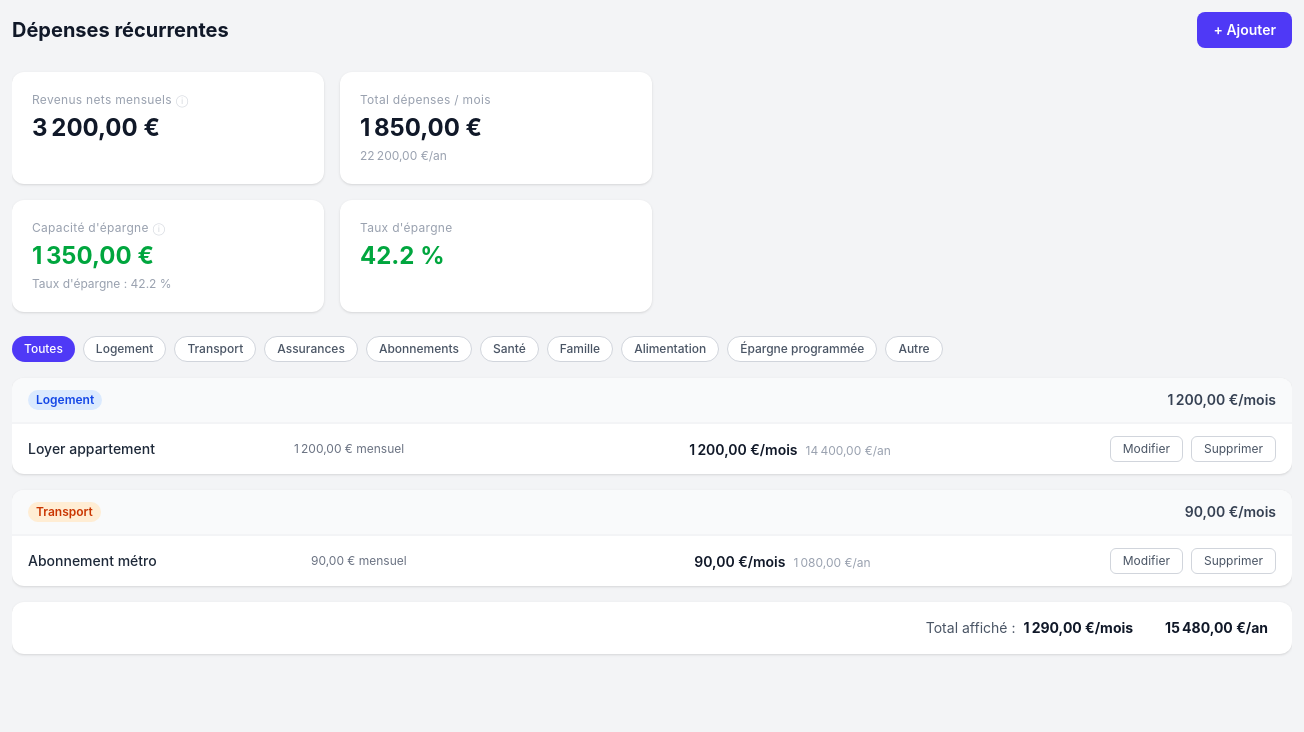
Test: RecurringExpensePage — pattern CRUD avec budgets › affiche toutes les dépenses au clic sur "Toutes"
Expected: the text "Loyer appartement" is shown, [12,424,278,474]
Click the button "Transport": (215, 349) [174,336,256,362]
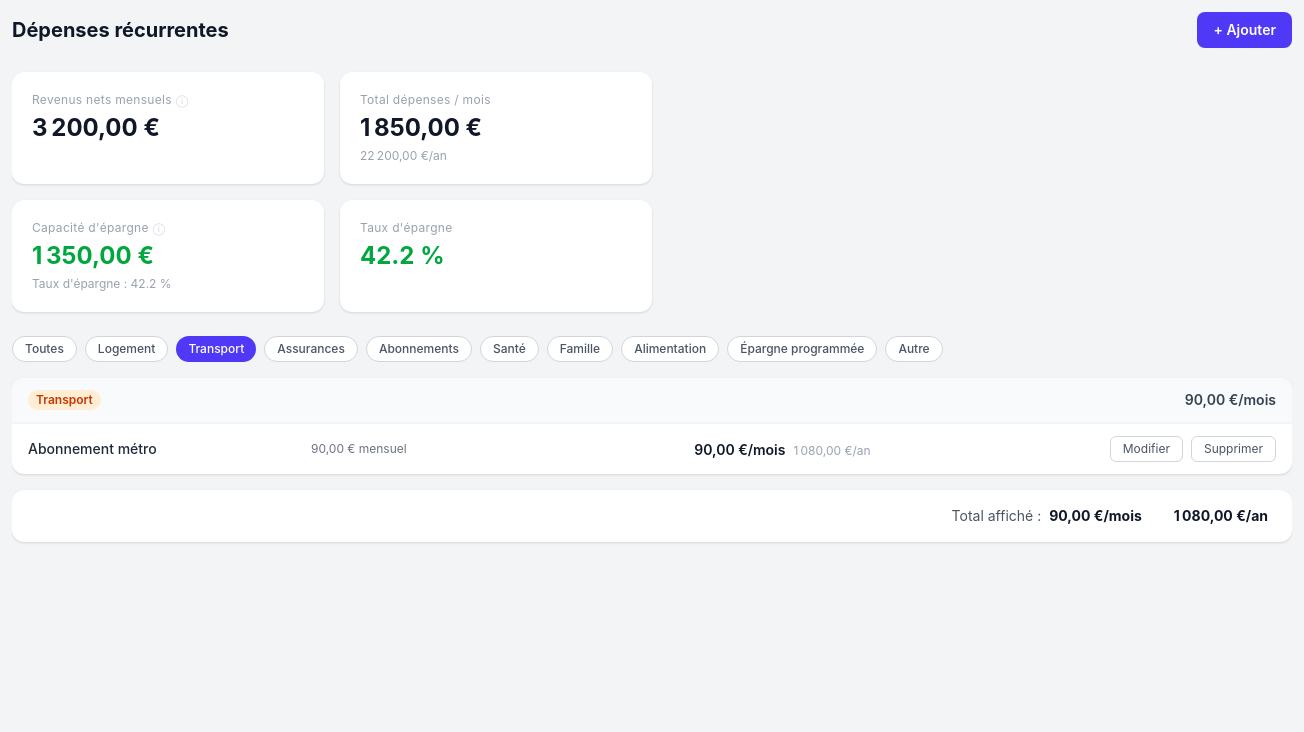
Click the button "Toutes": (44, 349) [12,336,77,362]
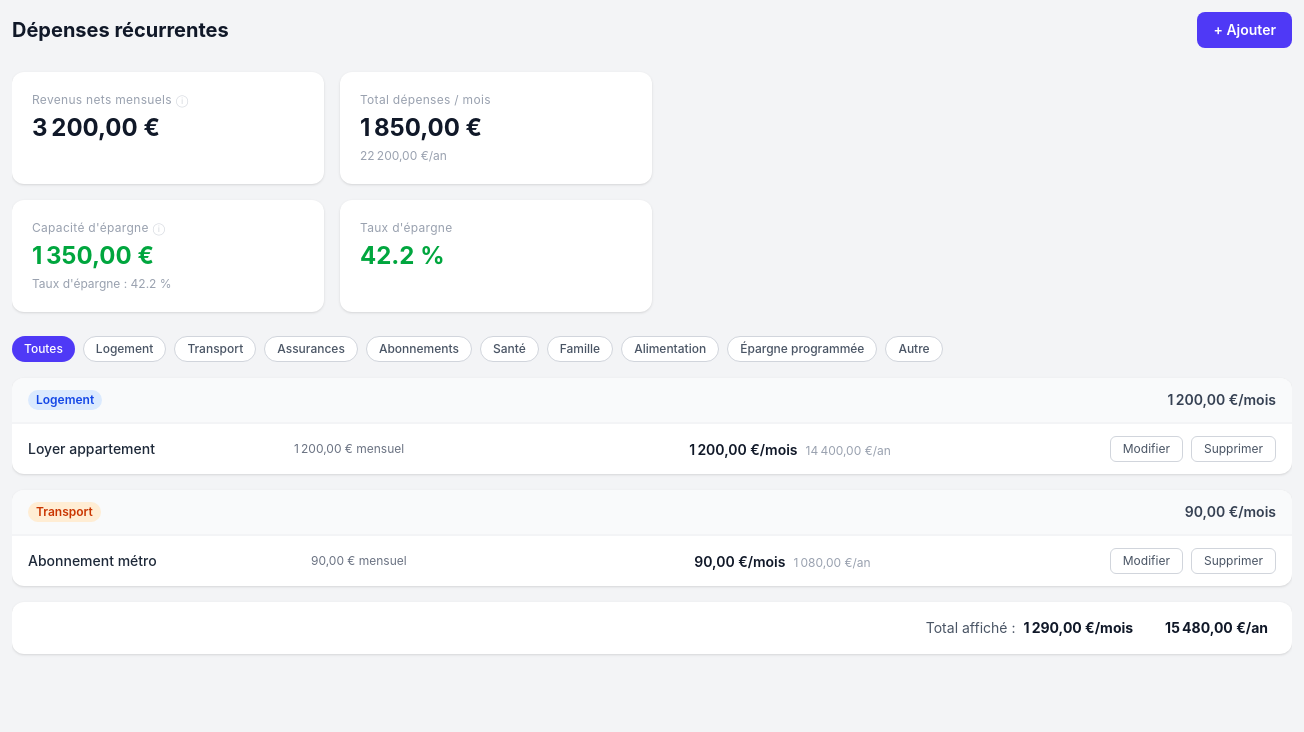
Expected: the text "Abonnement métro" is shown, [12,536,295,586]
Expected: the text "Loyer appartement" is shown, [12,424,278,474]
